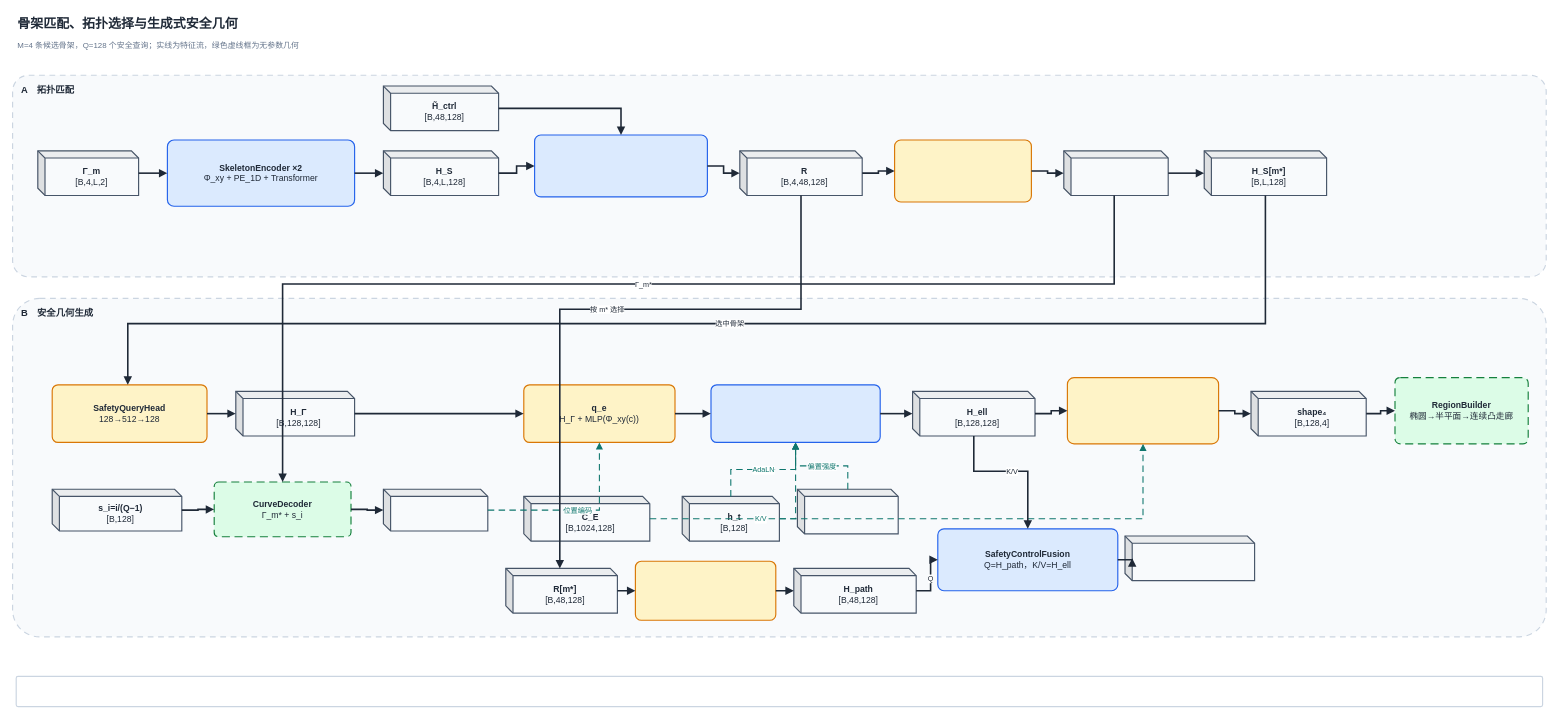
The diagram is 1560 pixels wide and 719 high, and some of its shapes have lost their labels. Here are the shapes that lost their labels. From the top down, the centre of each, then its label:
At (621,165): "MatchBlock control→skeleton cross-attn".
At (963,170): "TopologyHead 候选打分".
At (1115,173): "m* 选中拓扑".
At (795,413): "EllipseGeometry 中心偏置 Cross-Attn".
At (1142,410): "EllipseShapeHead AdaLN + MLP".
At (435,509): "c [B,128,2]".
At (847,511): "ᾱ_t 扩散累计系数".
At (1189,558): "H_safe^ctrl [B,48,128]".
At (705,590): "PathFeatureHead 128→512→128".
At (779,691): "统一标记 ▱ 张量 ■ 注意力 ■ AdaLN ■ MLP/投影 □ 固定算子 ┄ 条件注入 ┄ 跨步反馈".
